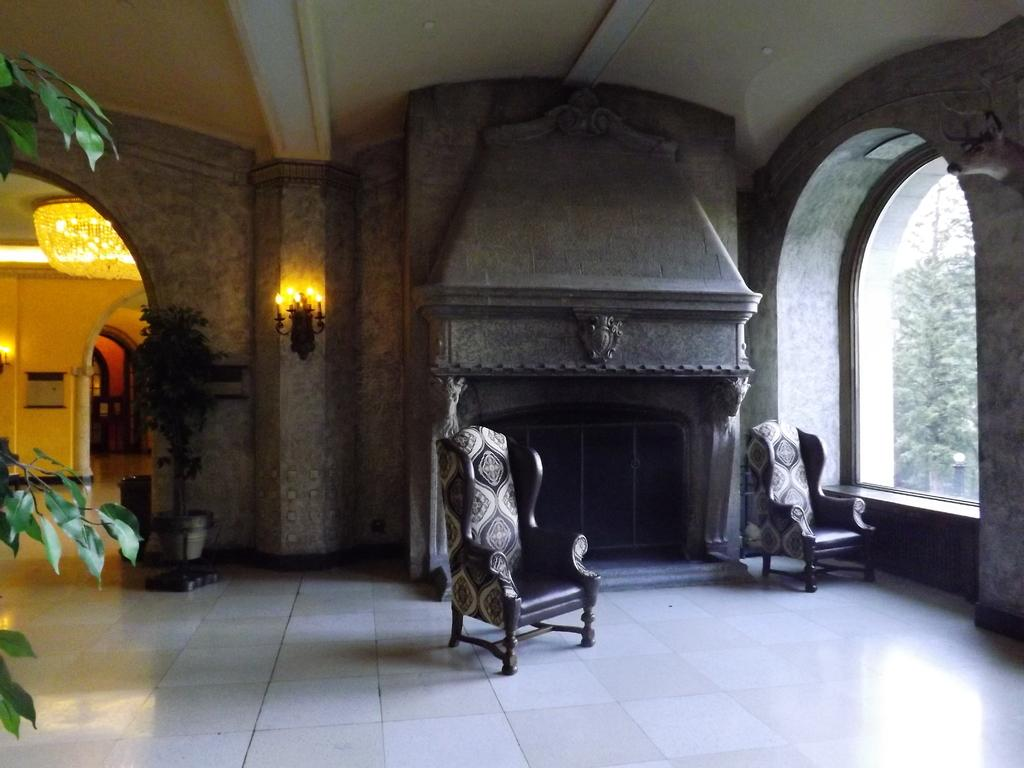Chair: (435, 426, 616, 677), (748, 420, 877, 597)
